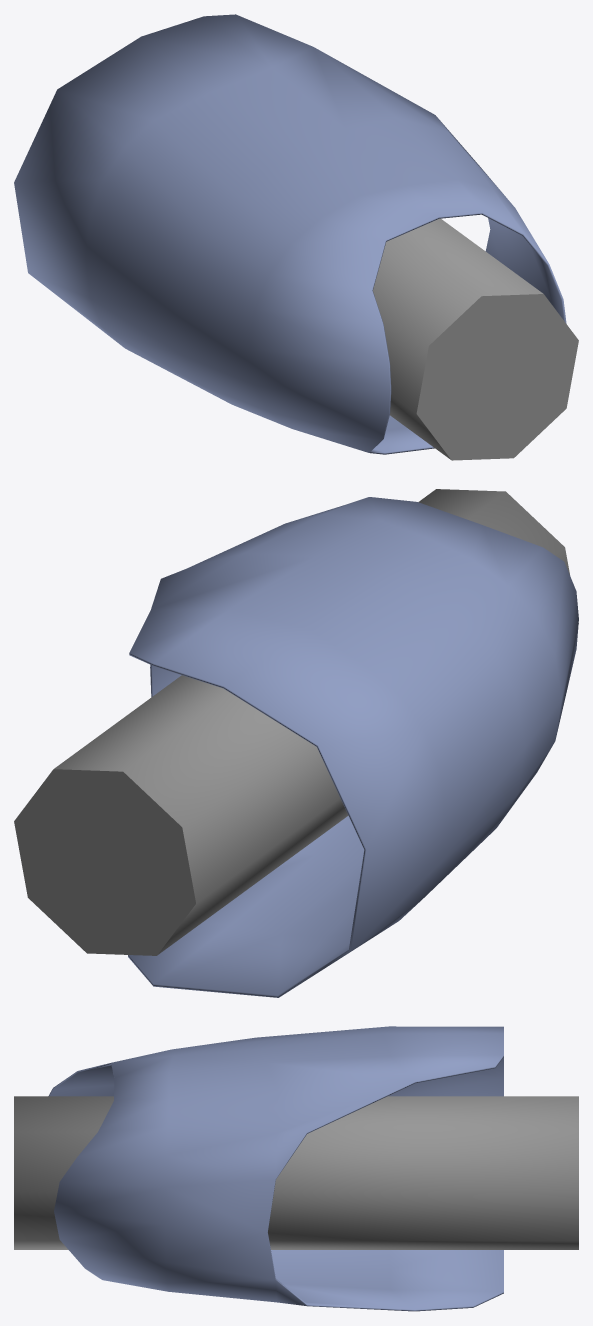
The model's file is icub_simple_l_forearm.dae.
The picture shows the model from 3 angles, top to bottom: view 1: azimuth 30°, elevation 25°; view 2: azimuth 150°, elevation 25°; view 3: azimuth 270°, elevation 25°; orthographic projection. The views are drawn at different scales.
Visible parts, largest first — view 1: l_forearm_mesh; view 2: l_forearm_mesh; view 3: l_forearm_mesh.
Part boxes in pixels (left/top/right/bottom): l_forearm_mesh: left=14, top=14, right=578, bottom=460; l_forearm_mesh: left=14, top=489, right=578, bottom=997; l_forearm_mesh: left=14, top=1026, right=578, bottom=1311.
Bounding box in the file's own units: 0.0795 × 0.0652 × 0.14.
